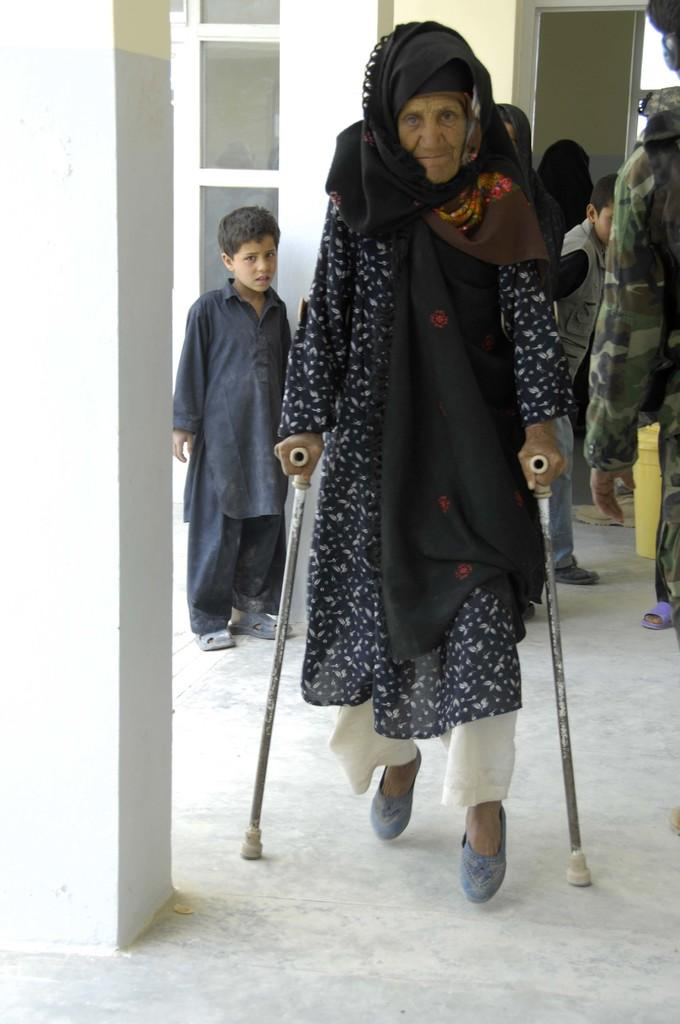crutches: (234, 10, 599, 917)
